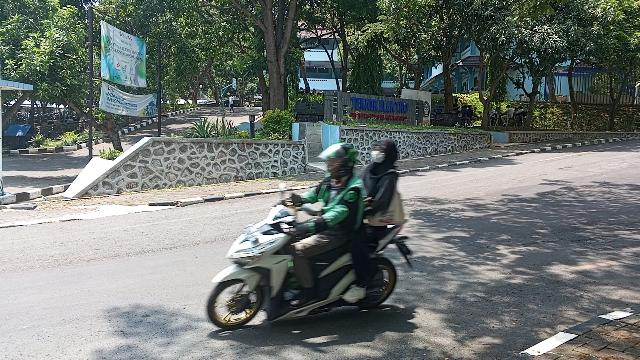helm: (318, 141, 361, 178)
motor: (206, 182, 418, 333)
non-helm: (370, 137, 401, 171)
